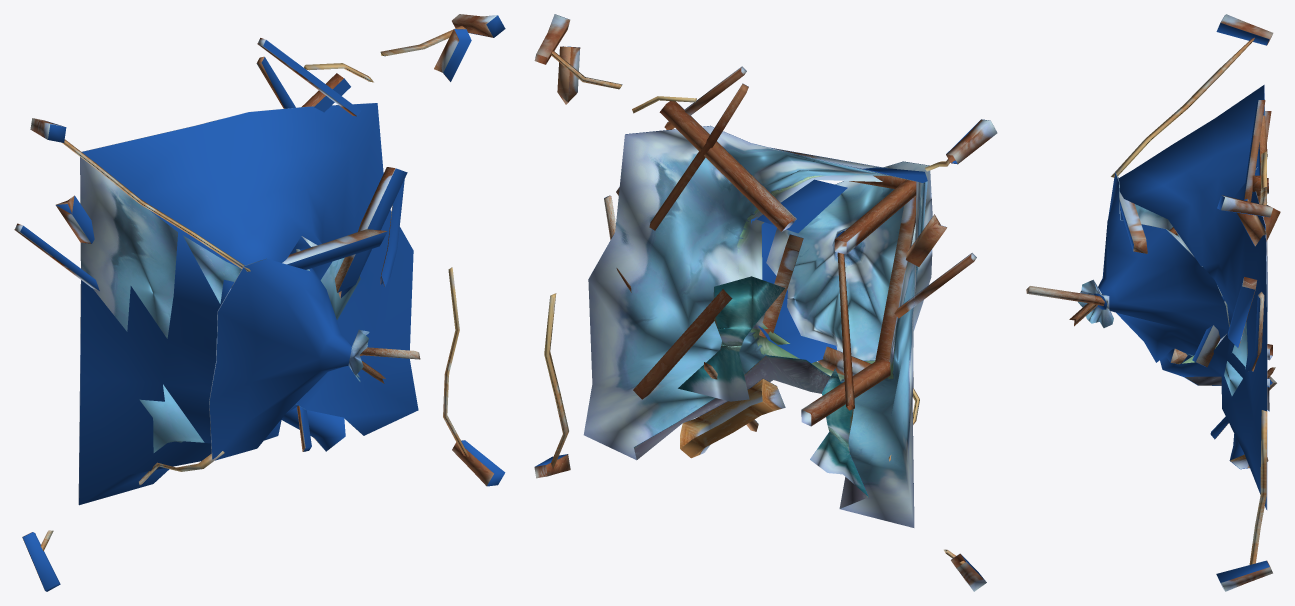
3 views of the same model, side by side, from view 1: azimuth 30°, elevation 25°; view 2: azimuth 150°, elevation 25°; view 3: azimuth 270°, elevation 25° (orthographic). The views are drawn at different scales.
Parts seen in each view (by area): view 1: UA013_03, Object02; view 2: Object02, UA013_03; view 3: UA013_03, Object02.
Boxes of the visible parts, bbox=[...] form: UA013_03: bbox=[20, 15, 505, 591]; Object02: bbox=[14, 14, 497, 590]; Object02: bbox=[534, 14, 997, 591]; UA013_03: bbox=[535, 14, 996, 582]; UA013_03: bbox=[1094, 15, 1272, 588]; Object02: bbox=[1026, 14, 1280, 591].
Size of the model in its own units: 14.68 by 14.87 by 8.34.
